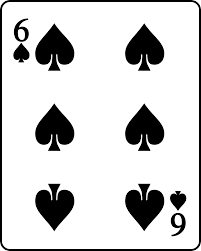six of spades: (2, 3, 200, 251)
